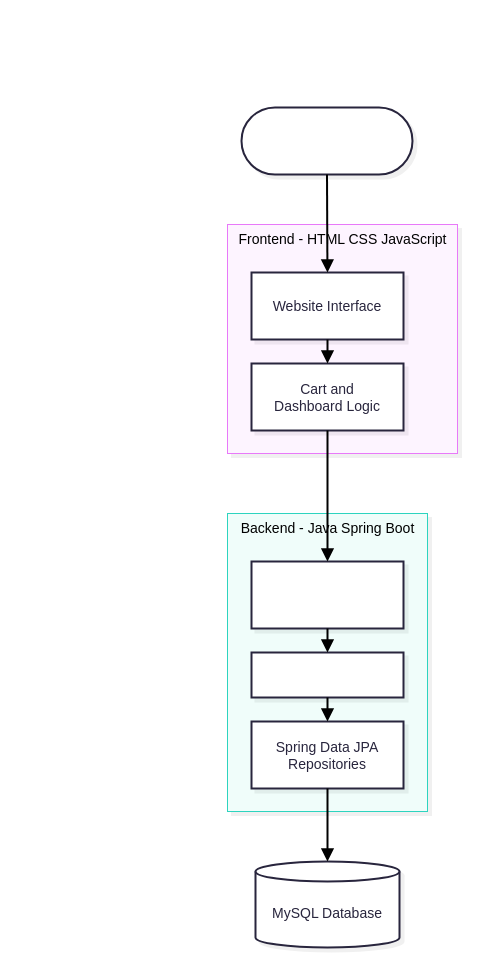
The diagram is 479 pixels wide and 969 high, and some of its shapes have lost their labels. The shapes that lost their labels are listed below. From the top down, each one's centre as x and y in pixels, then its label:
At (328,142): "Customer / Admin".
At (329,596): "REST API Controller".
At (329,676): "Order Service".
